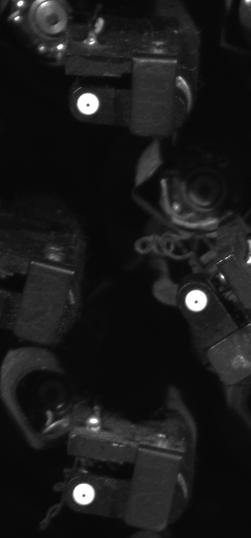fiber: (69, 479, 100, 511), (73, 89, 103, 119), (181, 287, 212, 316)
